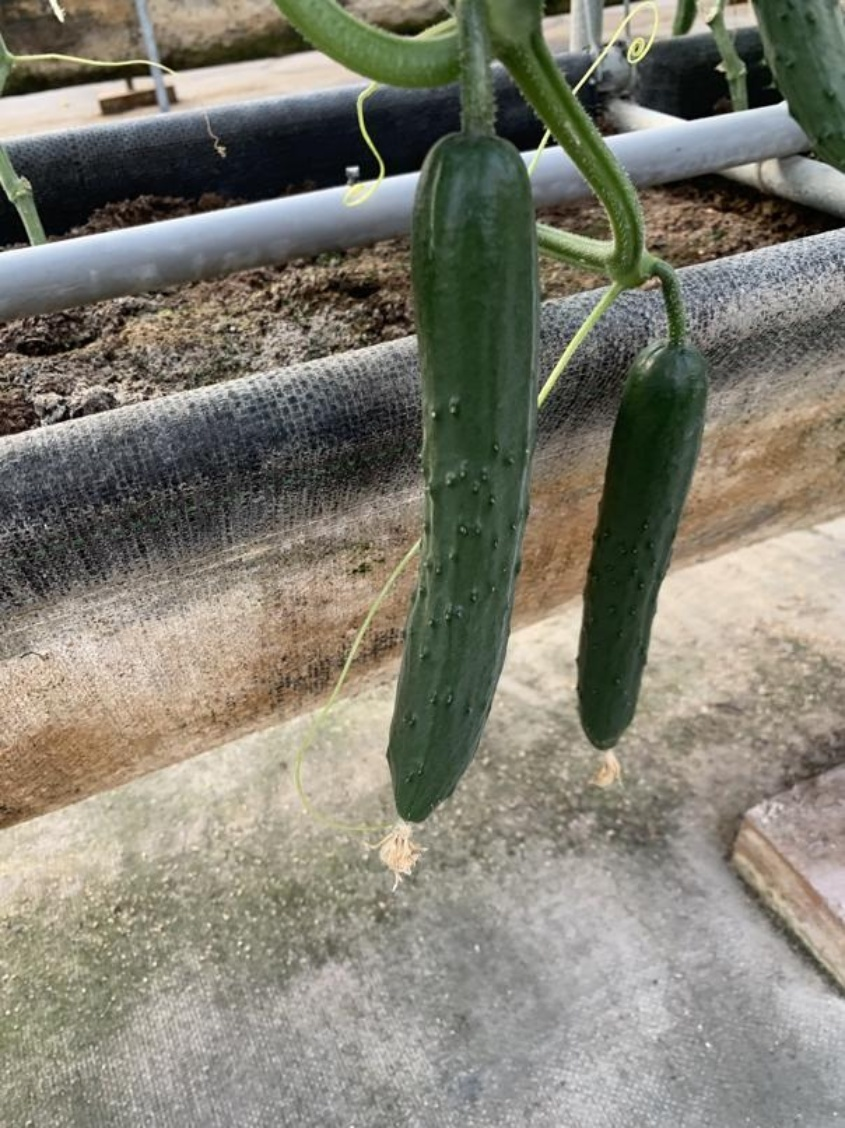mature: (389, 140, 548, 803), (568, 335, 715, 770)
